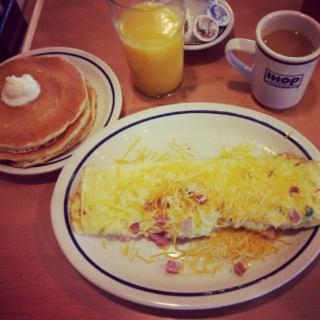Pancake: (2, 57, 94, 167)
